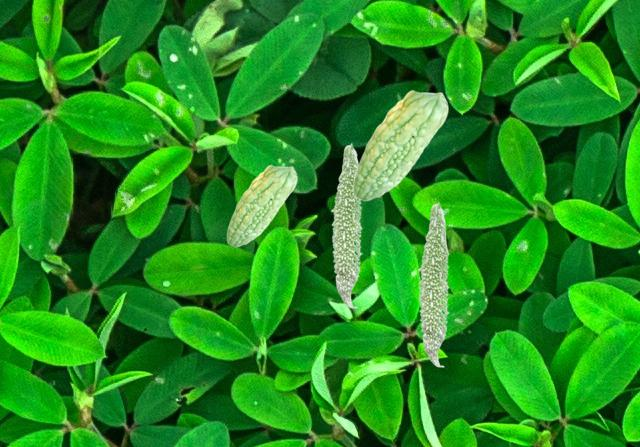ampalaya: (353, 89, 449, 201), (226, 164, 298, 247), (330, 142, 363, 308), (417, 201, 450, 367)
